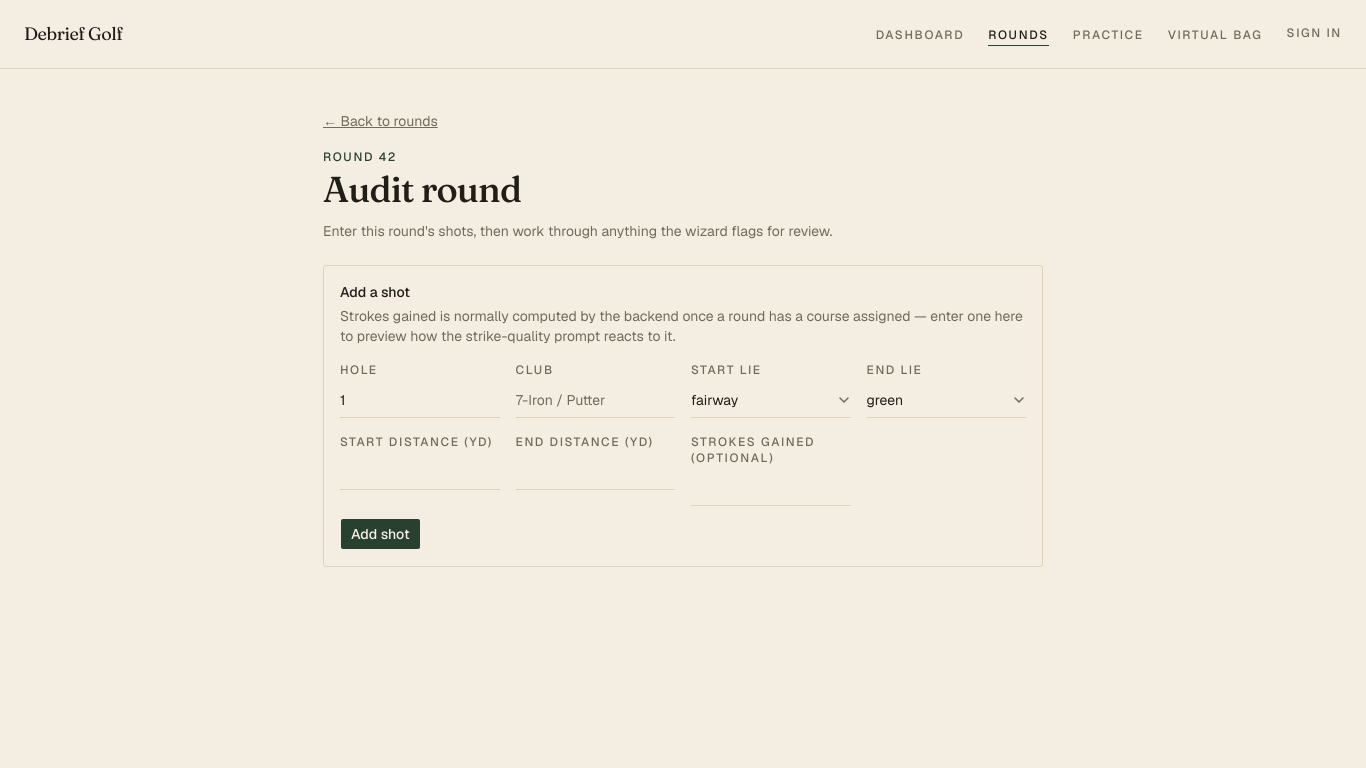
Test case: RoundAuditPage › switches to the audit wizard once review starts
The image size is (1366, 768).
Type "7-Iron" into the field labelled "Club" at (595, 400), box [516, 382, 675, 418]
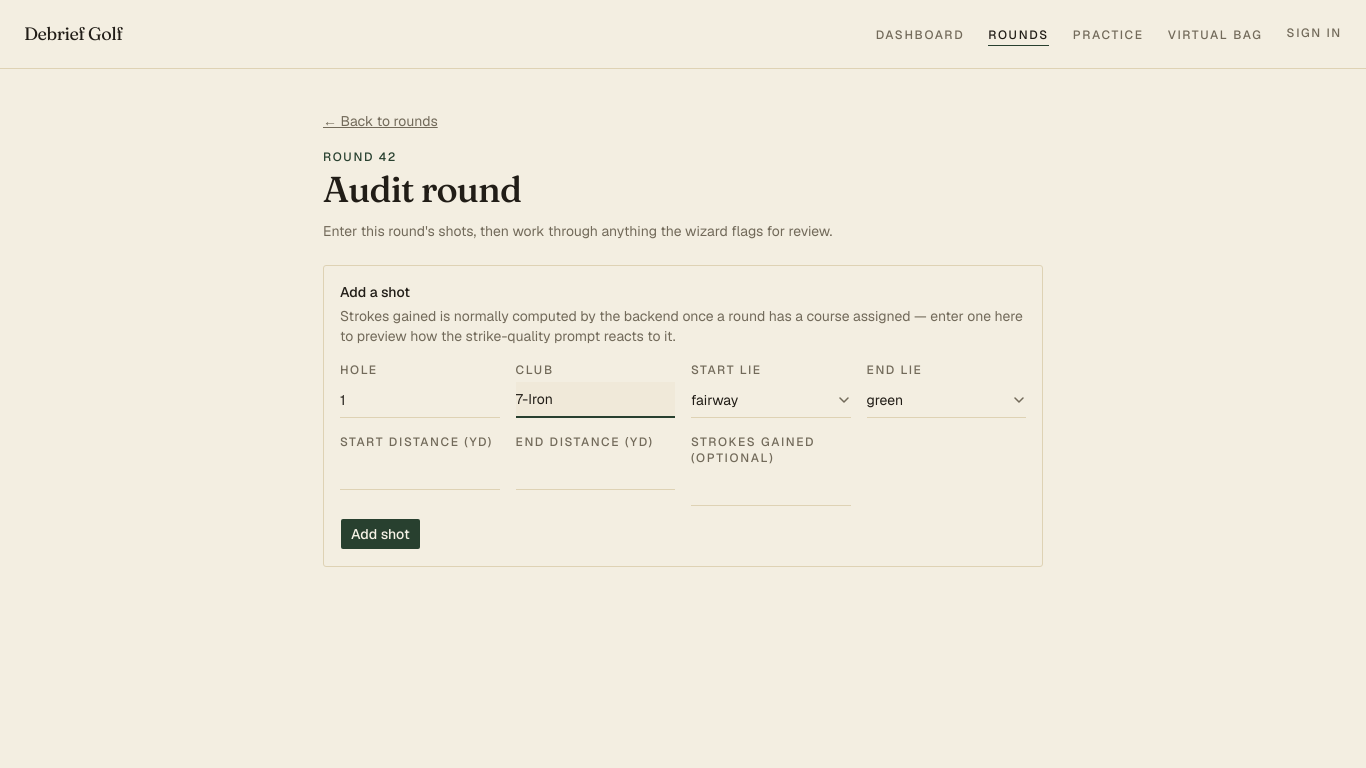
Type "150" into the number field labelled "Start distance (yd)" at (420, 472), box [340, 454, 500, 490]
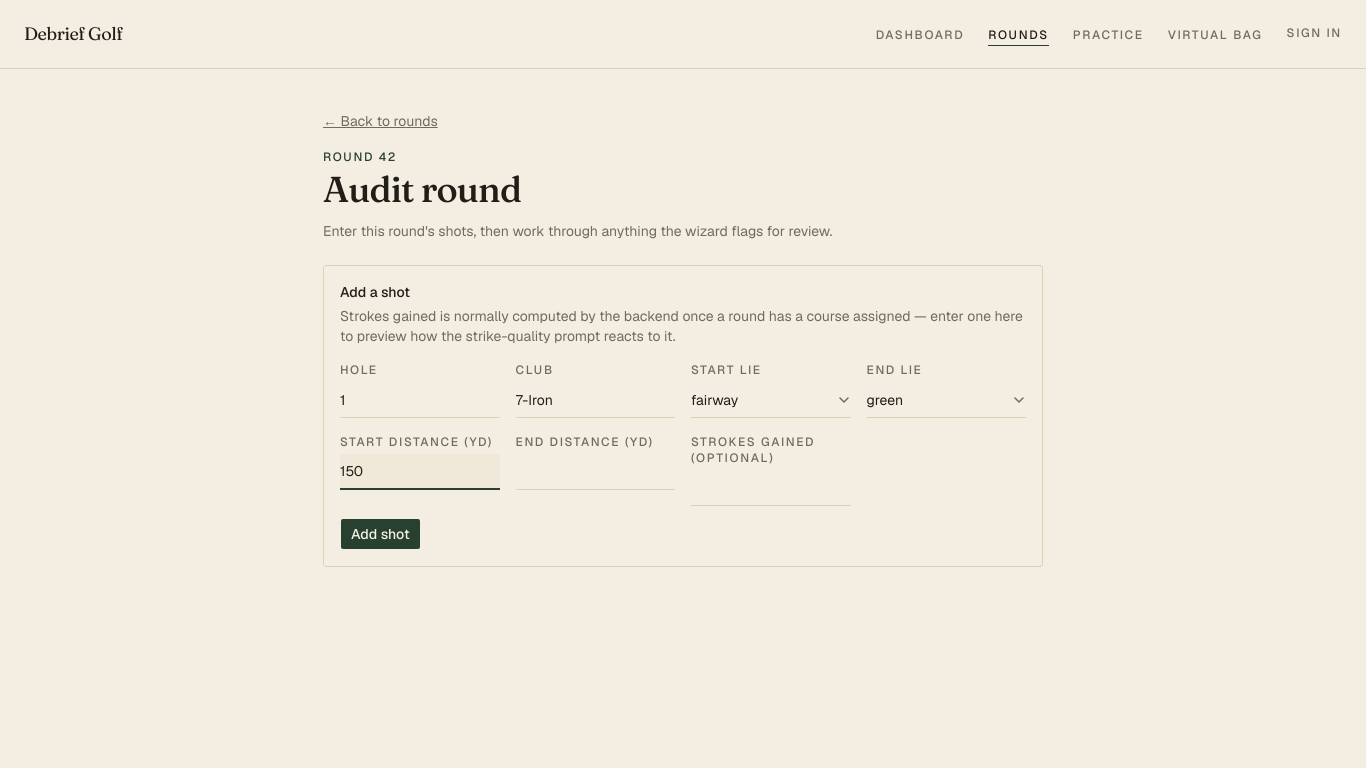
Type "6" into the number field labelled "End distance (yd)" at (595, 472), box [516, 454, 675, 490]
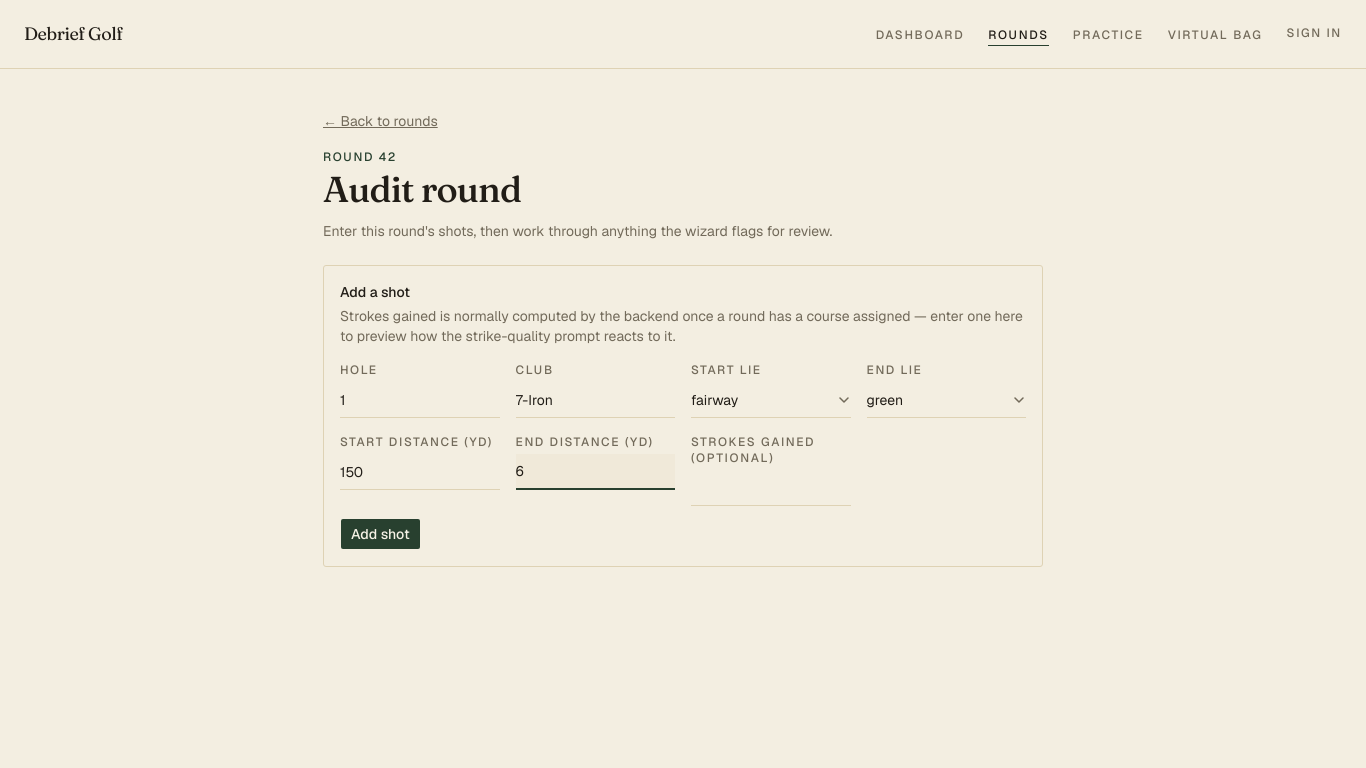
Click the button "Add shot" at (380, 534), box [340, 518, 421, 550]
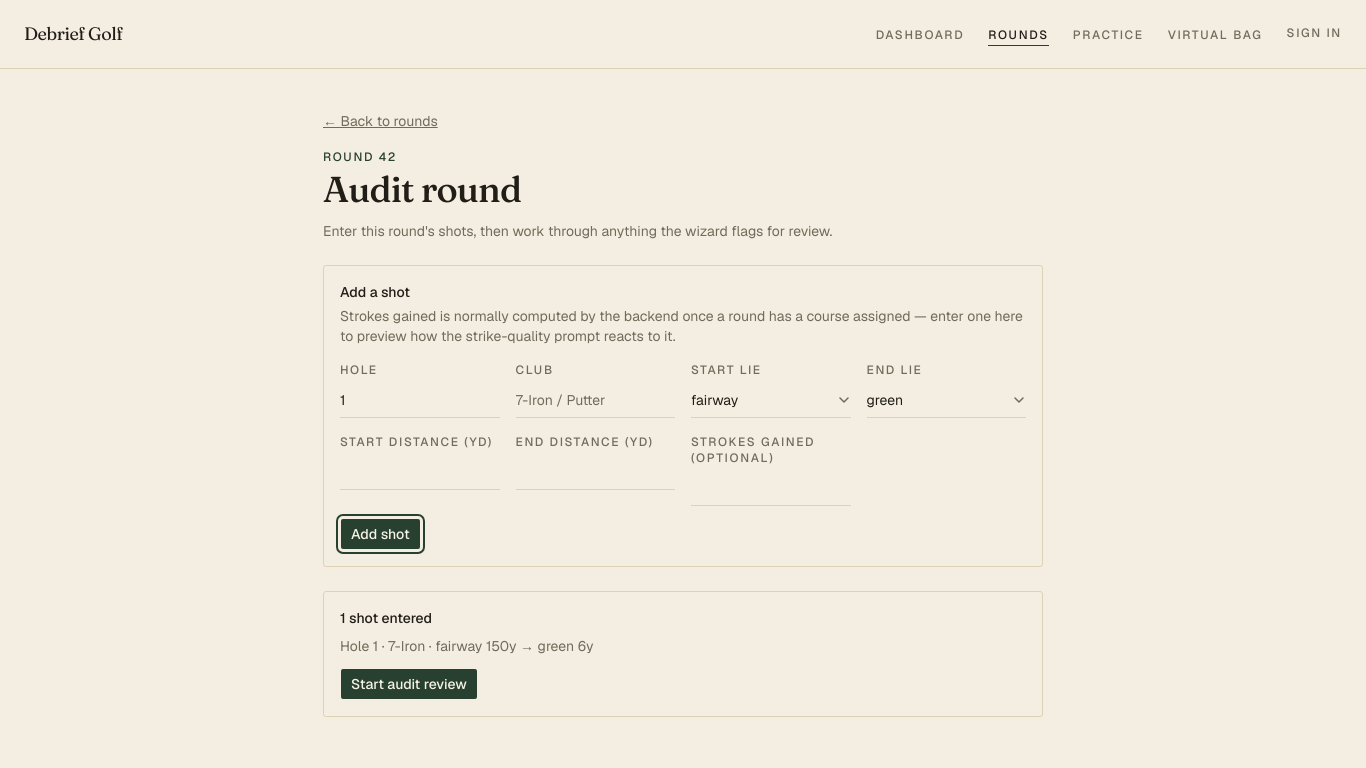
Click the button "Start audit review" at (409, 684), box [340, 668, 478, 700]
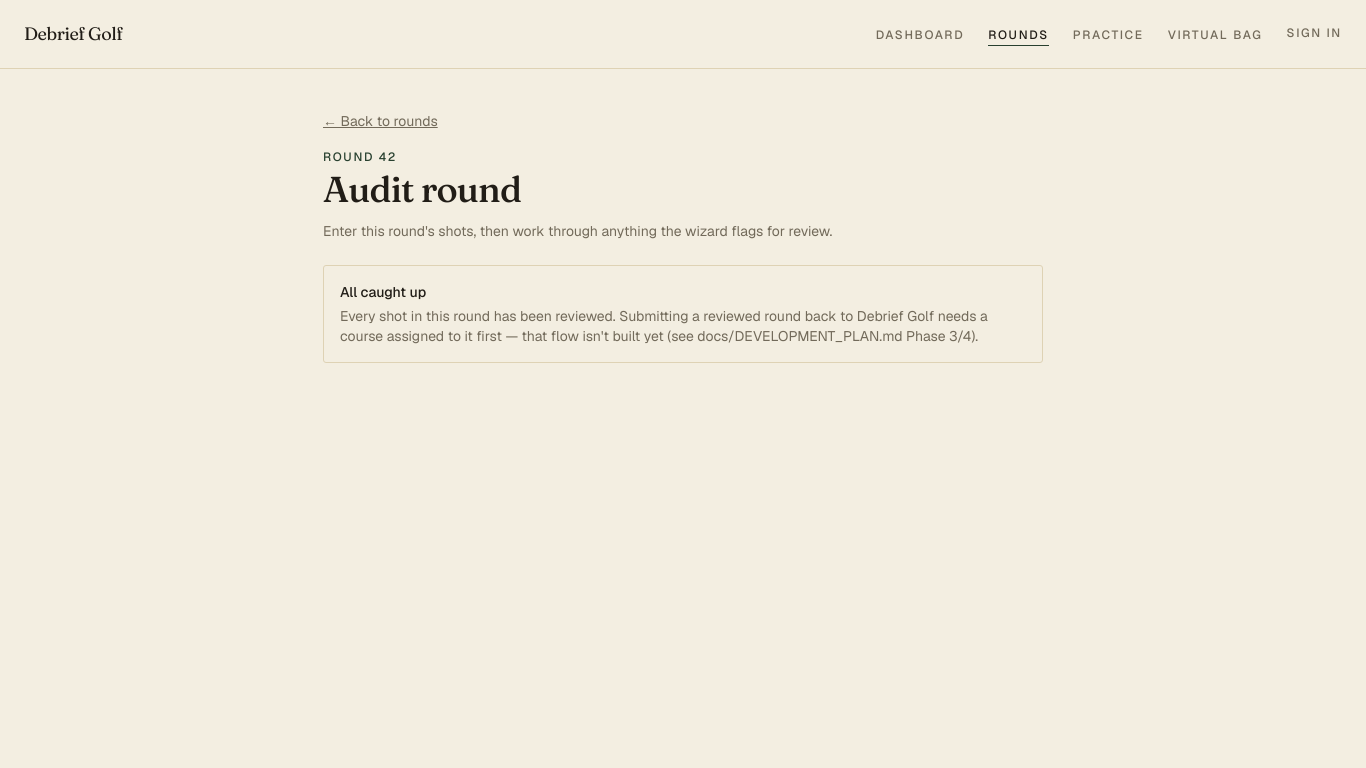
Result: the text "All caught up" is shown at [340, 283, 426, 301]
Result: the text "Add a shot" is gone
